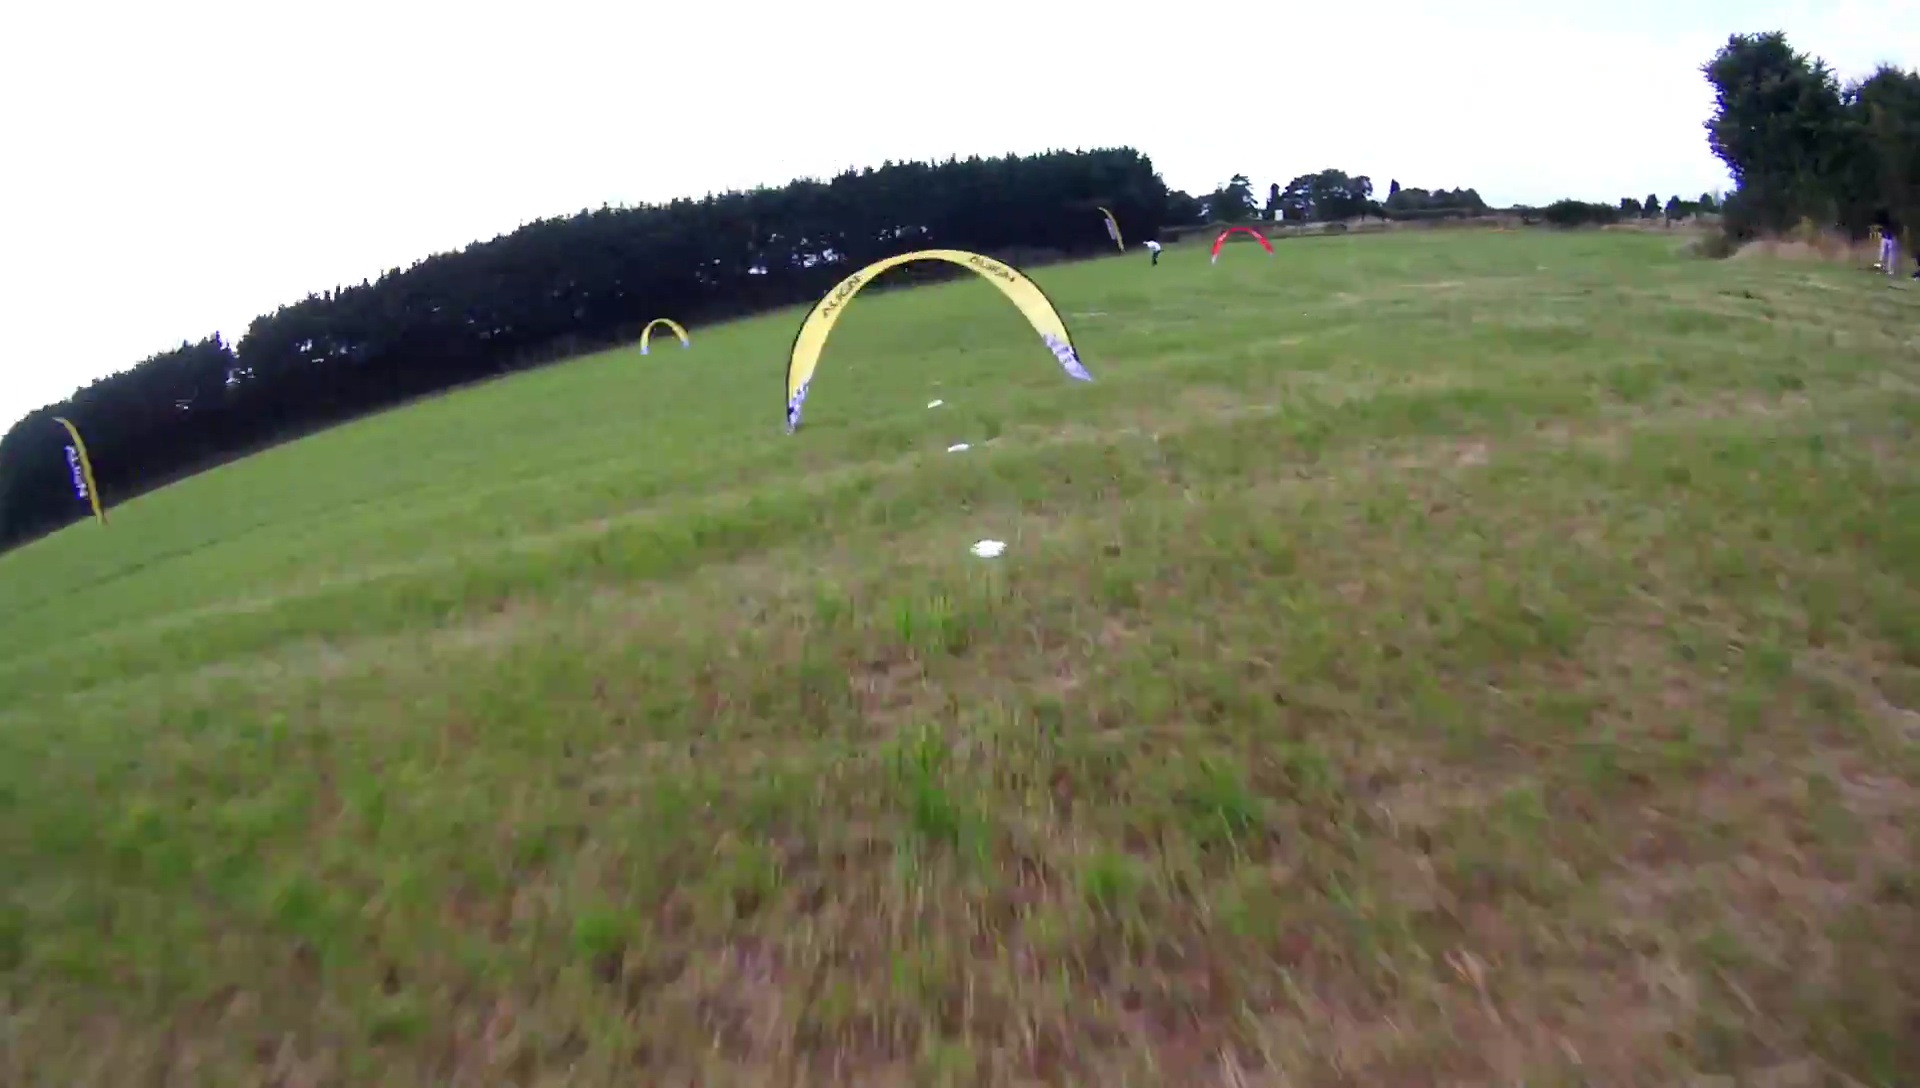gate: (783, 244, 1098, 435), (1207, 226, 1278, 268), (638, 317, 691, 357)
